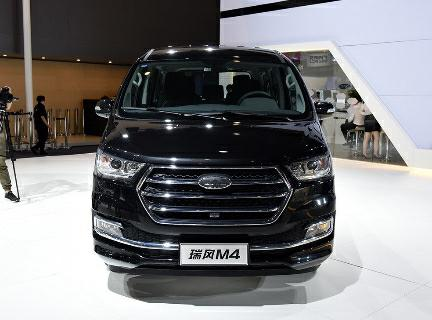江淮-瑞风: (78, 43, 341, 282)
